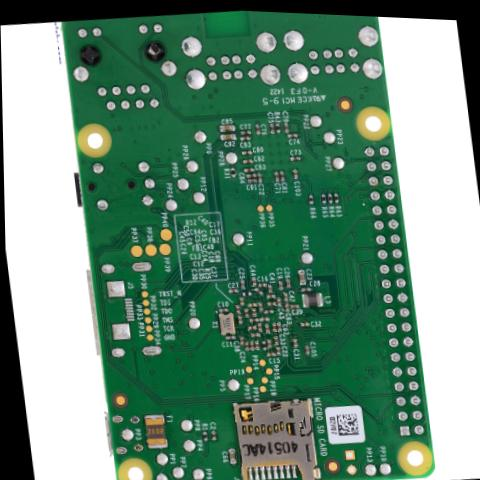Raspberry-Pi-1-Model-B-: (54, 2, 434, 480)
